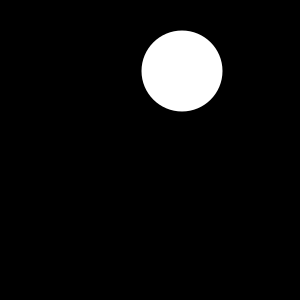rectangle: (142, 30, 222, 112)
